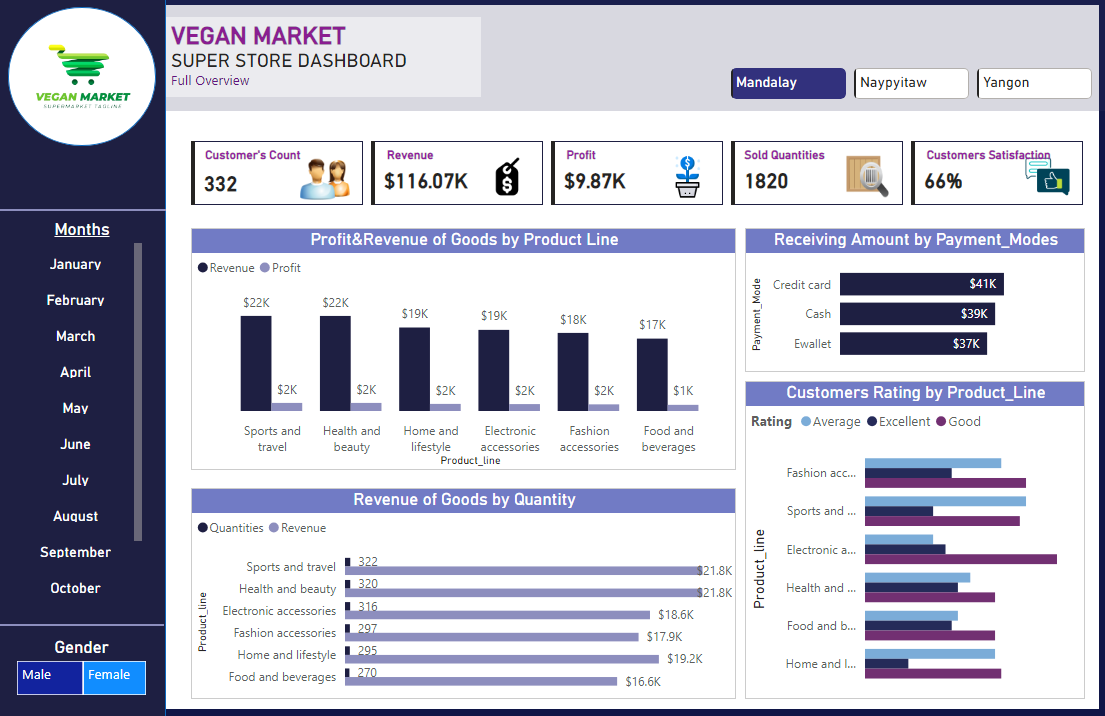

The page's visual inventory and layout, read from the dashboard file:
{"tool":"powerbi","page":{"name":"Page 1","canvas":[1110,720],"ordinal":0},"visuals":[{"type":"shape","box":[0,0,1110,720],"z":0},{"type":"shape","box":[0,0,168.9,720],"z":1000},{"type":"shape","box":[168.9,0,941.1,114.4],"z":2000},{"type":"shape","box":[11.2,10,147.5,138.8],"z":3000},{"type":"image","box":[2.8,0,166.6,160],"z":4000},{"type":"cardVisual","fields":{"Data":["CountNonNull(Customer.Invoice_ID)","Sum(Product.Sold_Price)","Sum(Product.Goods_Profit)","Sum(Product.Quantity)","Customer.Positive_Rating"]},"box":[189,139,904,74],"z":5000},{"type":"textbox","box":[169,20,315,80],"z":6000},{"type":"textbox","box":[194.4,143.3,893.3,26.7],"z":7000},{"type":"advancedSlicerVisual","fields":{"Values":["Customer.City"]},"box":[728.9,65.6,372.2,41.1],"z":8000},{"type":"shape","box":[2.2,204.4,166.7,17.8],"z":9000},{"type":"advancedSlicerVisual","fields":{"Values":["Product.Months"]},"box":[20,222,130,384],"z":10000},{"type":"shape","box":[0,619,167,18],"z":11000},{"type":"clusteredColumnChart","title":"Profit&Revenue of Goods by Product Line","fields":{"Category":["Product.Product_line"],"Y":["Sum(Product.Sold_Price)","Sum(Product.Goods_Profit)"]},"box":[194.4,231.1,544.4,242.2],"z":12000},{"type":"treemap","title":"Gender","fields":{"Group":["Customer.Gender"],"Values":["CountNonNull(Customer.Invoice_ID)"]},"box":[15.2,640,139,62.9],"z":13000},{"type":"clusteredBarChart","title":"Revenue of Goods by Quantity","fields":{"Category":["Product.Product_line"],"Y":["Sum(Product.Quantity)","Sum(Product.Sold_Price)"]},"box":[194.4,491.1,544.4,211.1],"z":14000},{"type":"barChart","title":"Receiving Amount by Payment_Modes","fields":{"Category":["Product.Payment_Mode"],"Y":["Sum(Product.Sold_Price)"]},"box":[748,231,340,144],"z":15000},{"type":"clusteredBarChart","title":"Customers Rating by Product_Line","fields":{"Category":["Product.Product_line"],"Series":["Customer.Customers_Rating"],"Y":["CountNonNull(Customer.Invoice_ID)"]},"box":[748,384,340,318],"z":16000}]}

Visuals, with their boxes in screenshot pixels (x1, y1, x2, y2), scaled from the page's 1110x720 canvas onto the 1105x716 screenshot:
shape: 0:0:1104:715
shape: 0:0:168:715
shape: 168:0:1104:114
shape: 11:10:158:148
image: 3:0:169:159
cardVisual - CountNonNull(Customer.Invoice_ID) x Sum(Product.Sold_Price): 188:138:1088:212
textbox: 168:20:482:99
textbox: 194:143:1083:169
advancedSlicerVisual - Customer.City: 726:65:1096:106
shape: 2:203:168:221
advancedSlicerVisual - Product.Months: 20:221:149:603
shape: 0:616:166:633
"Profit&Revenue of Goods by Product Line" clusteredColumnChart: 194:230:735:471
"Gender" treemap: 15:636:154:699
"Revenue of Goods by Quantity" clusteredBarChart: 194:488:735:698
"Receiving Amount by Payment_Modes" barChart: 745:230:1083:373
"Customers Rating by Product_Line" clusteredBarChart: 745:382:1083:698
